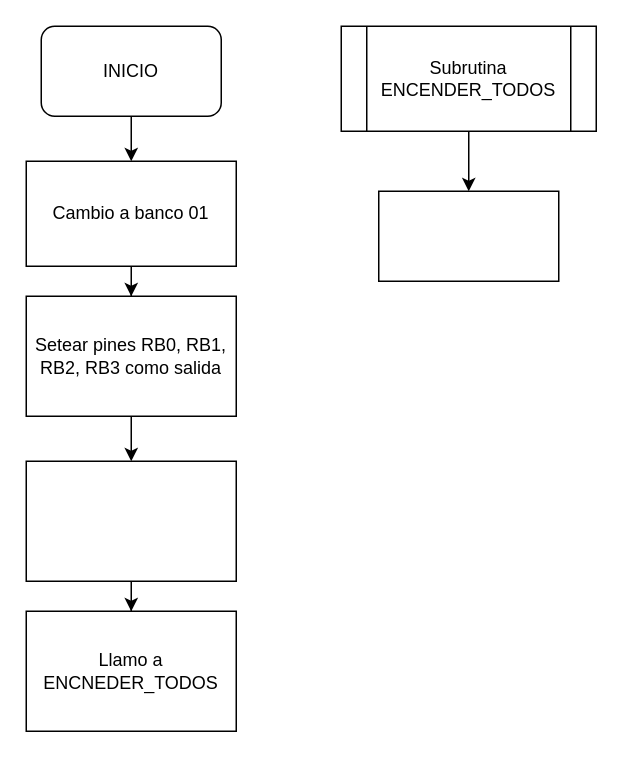
Image size: 623x758. Some labels were removed from this diagram. The centre of each missing label's shape, as x and y in pixels:
Cambio al banco 00: (x=130, y=520)
Set en alto los pines RB0, RB1, RB2, RB3: (x=468, y=235)
